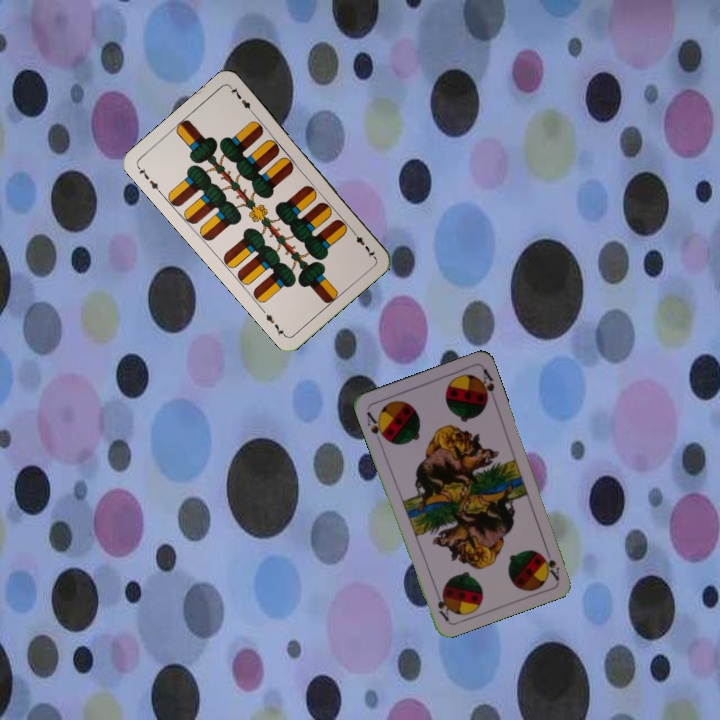E7: (347, 226, 378, 260), (133, 162, 164, 196)
SA: (362, 407, 389, 443), (539, 543, 562, 582)
